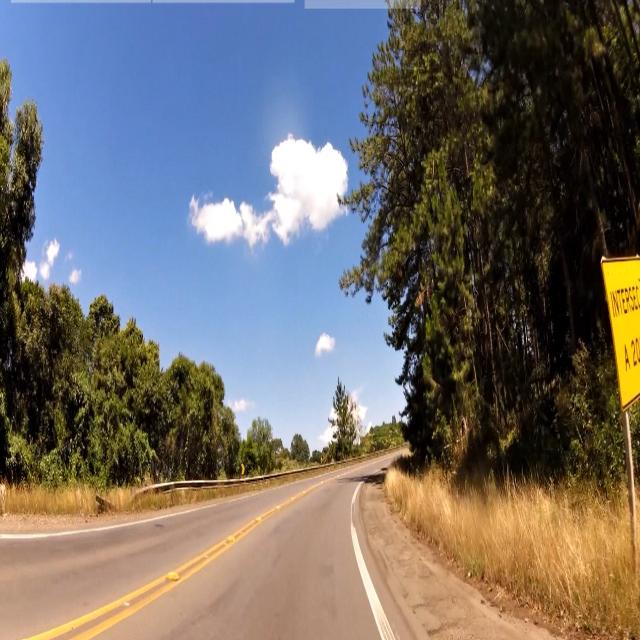Del: (240, 460, 245, 477)
